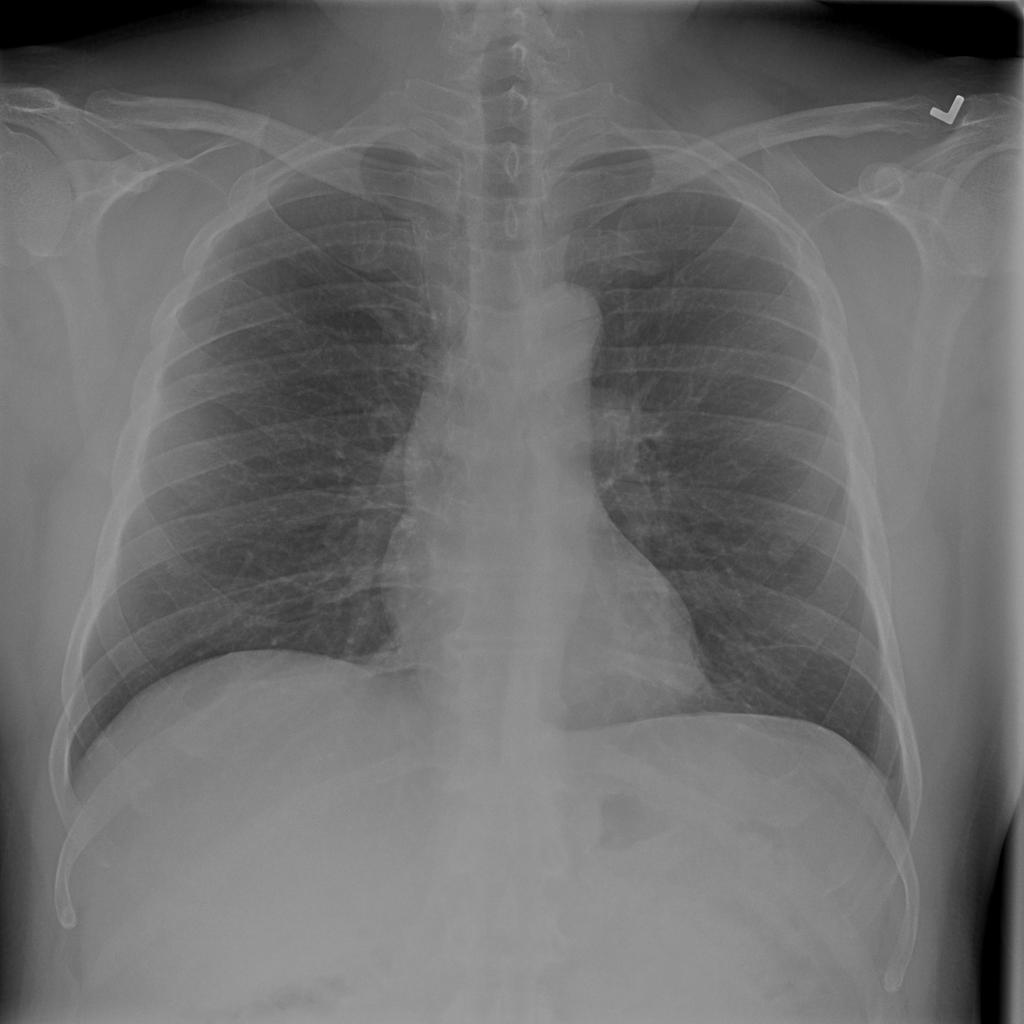nodule: (759, 523, 810, 575), (150, 544, 206, 588)
